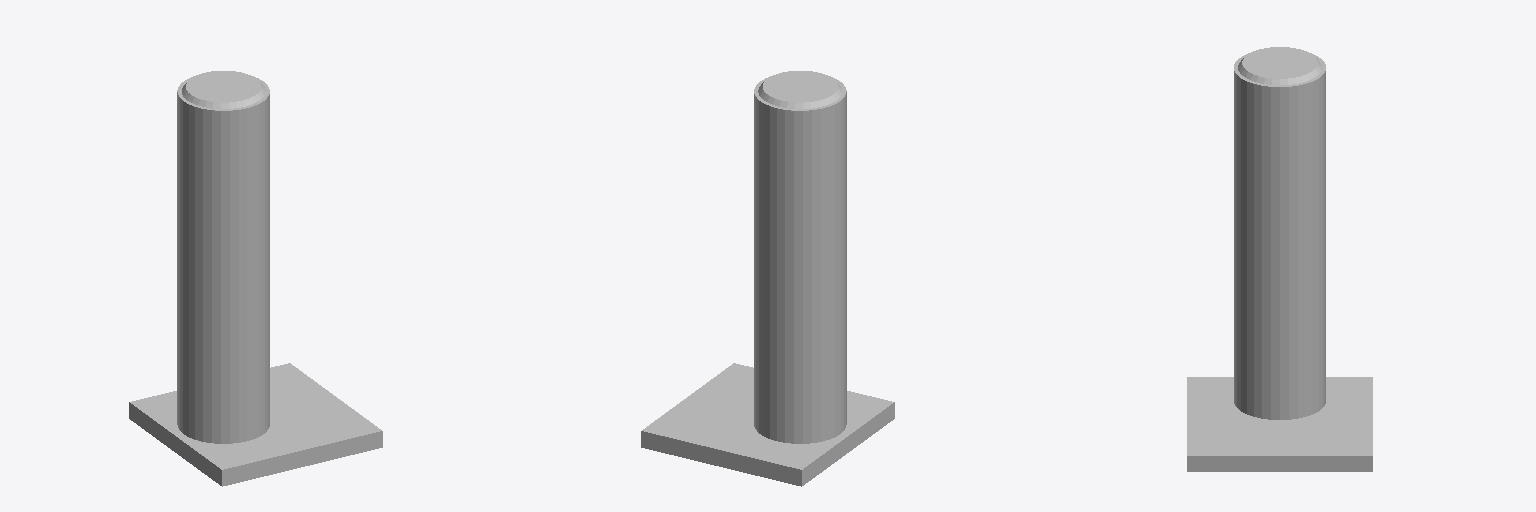
File: Portal2_Button.obj
3 views of the same model, side by side, from view 1: azimuth 30°, elevation 25°; view 2: azimuth 150°, elevation 25°; view 3: azimuth 270°, elevation 25° (orthographic).
Parts seen in each view (by area): view 1: Cylinder, Cube_Cube.001; view 2: Cylinder, Cube_Cube.001; view 3: Cylinder, Cube_Cube.001.
Boxes of the visible parts, x1=… form: Cylinder: x1=177, y1=71, x2=269, y2=443; Cube_Cube.001: x1=129, y1=363, x2=382, y2=486; Cylinder: x1=754, y1=71, x2=846, y2=443; Cube_Cube.001: x1=641, y1=363, x2=894, y2=486; Cylinder: x1=1234, y1=47, x2=1325, y2=419; Cube_Cube.001: x1=1187, y1=377, x2=1372, y2=471.
Size of the model in its own units: 1 by 2.11 by 1.